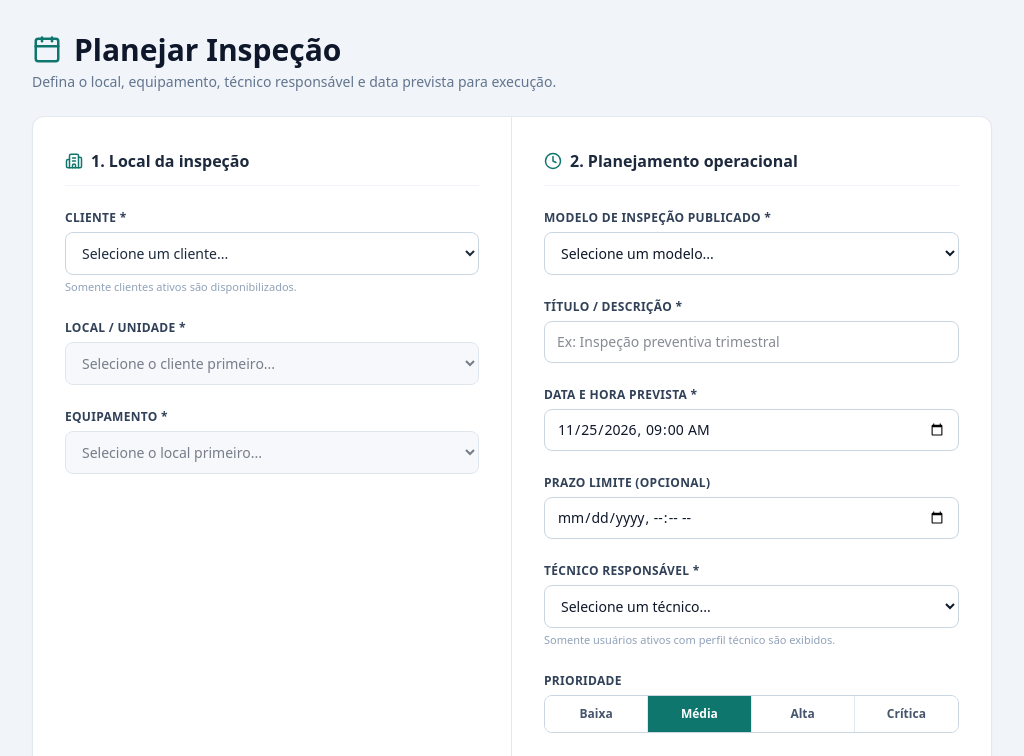
Test: clears dependent selections when changing the client and filters incompatible equipment
The image size is (1024, 756).
Step 1. Select "Cliente A" in the dropdown named "Cliente" → (272, 254), box [65, 232, 479, 275]
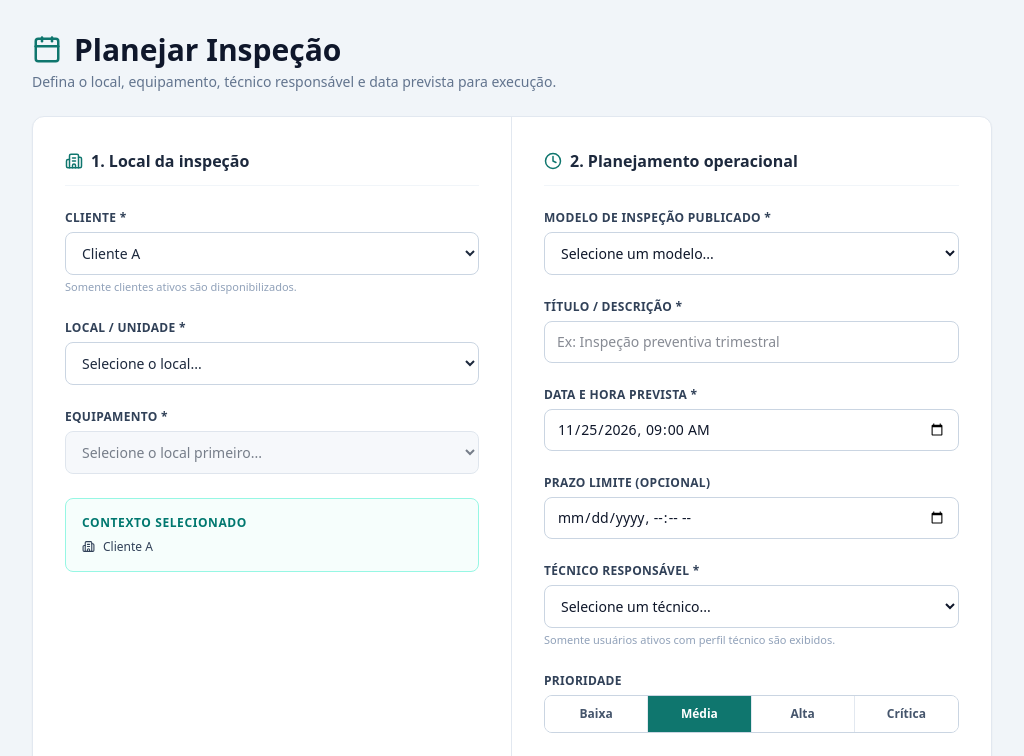
Step 2. Select "Local A —" in the dropdown named "Local" → (272, 363), box [65, 342, 479, 384]
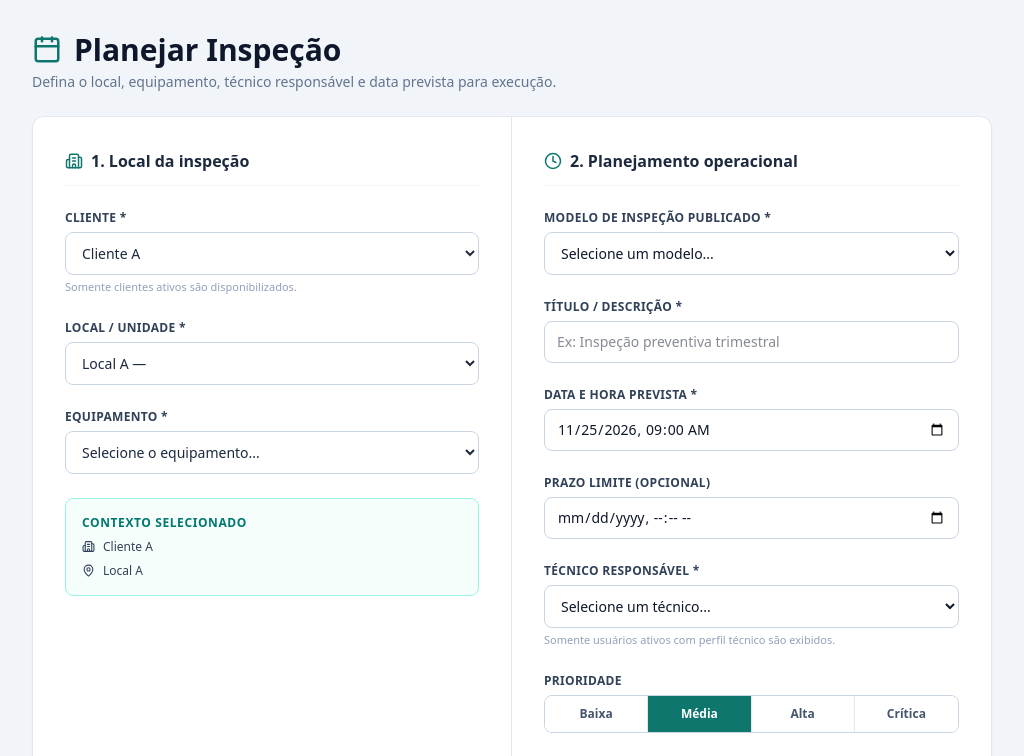
Step 3. Select "Equipamento A" in the dropdown named "Equipamento" → (272, 452), box [65, 430, 479, 474]
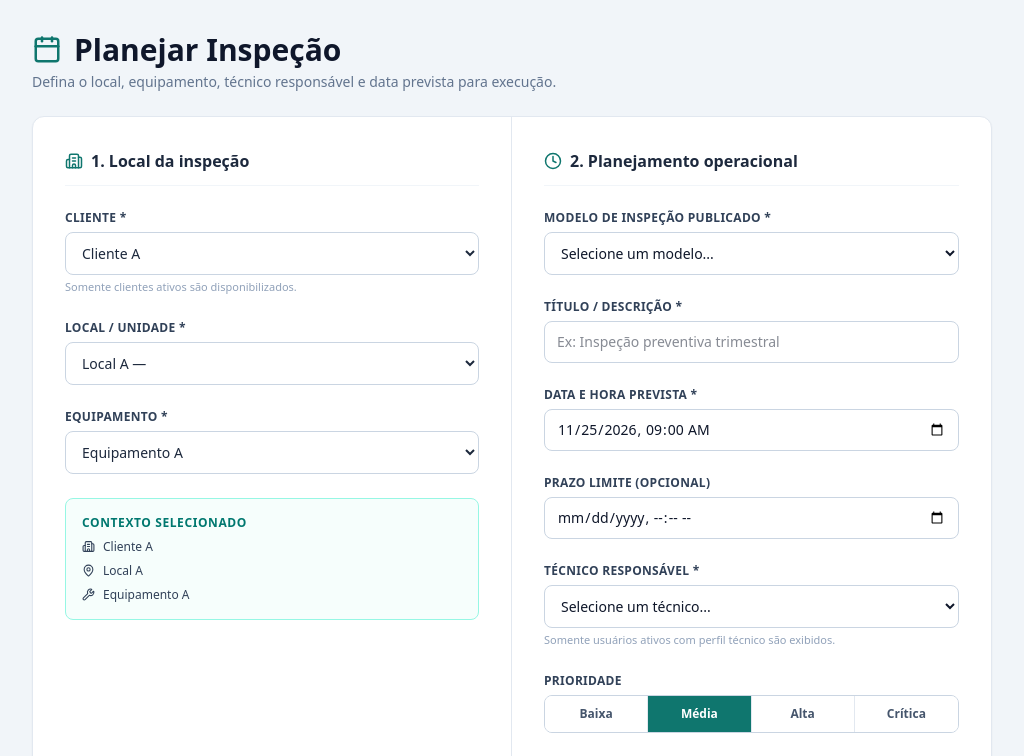
Step 4. Select "Técnico A — tecnico@example.test" in the dropdown named "Técnico" → (752, 606), box [544, 585, 959, 628]
Step 5. Select "Modelo publicado — v2" in the dropdown named "Versão publicada" → (752, 254), box [544, 232, 959, 275]
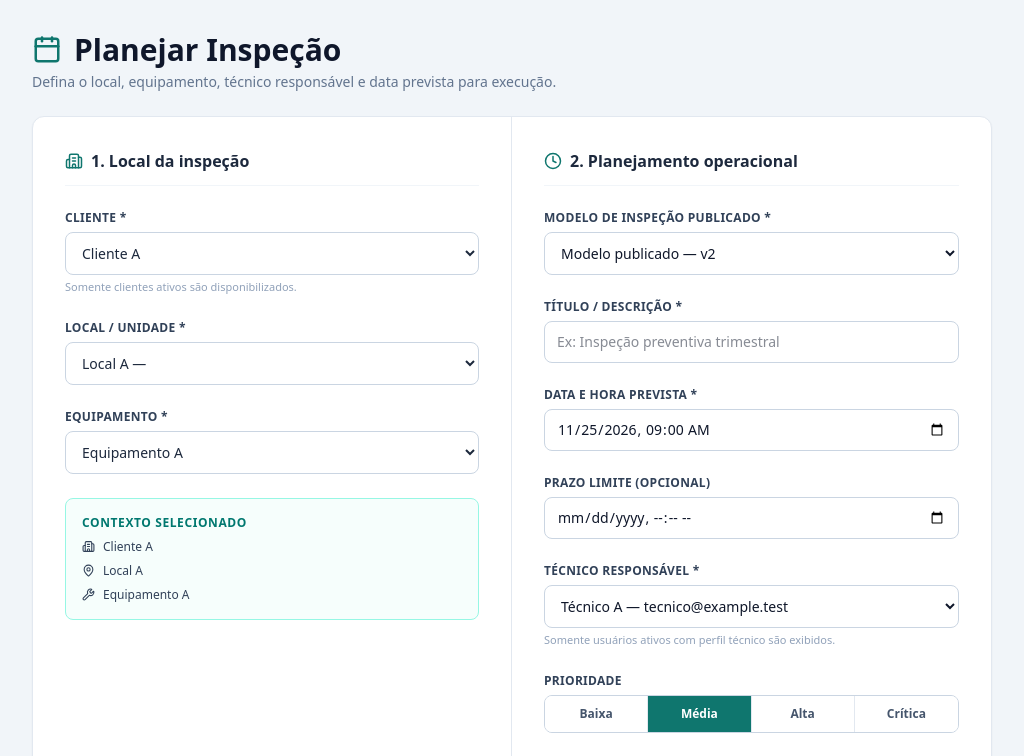
Step 6. Type "Inspeção agendada" into the field named "Título da inspeção" → (752, 342), box [544, 321, 959, 363]
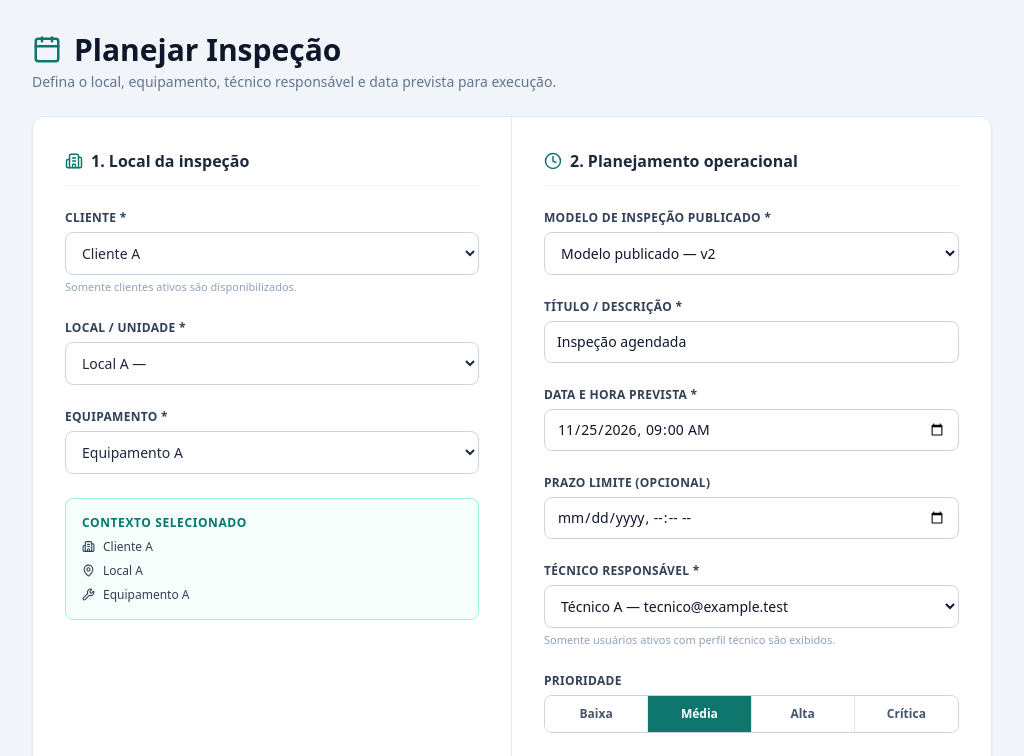
Step 7. Select "Selecione um cliente..." in the dropdown named "Cliente" → (272, 254), box [65, 232, 479, 275]
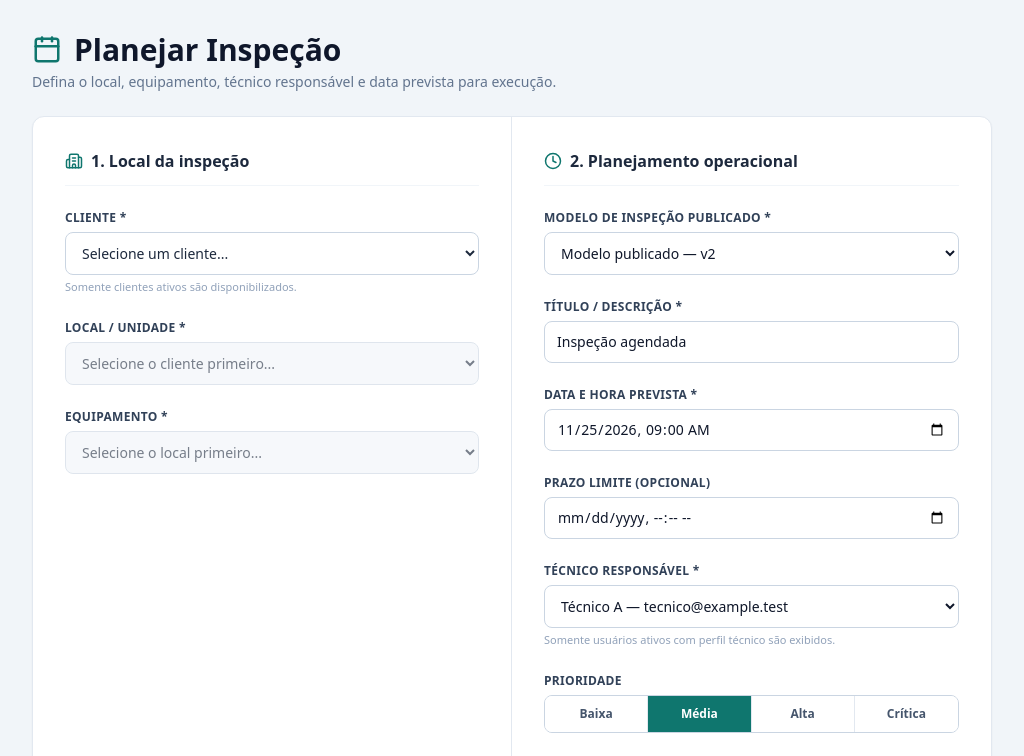
Check: the dropdown named "Local" is disabled, box [65, 342, 479, 384]
